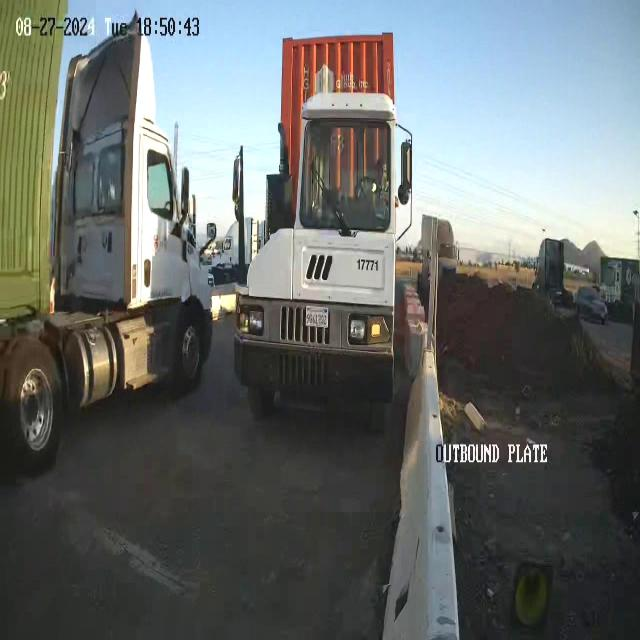CONTAINER: (277, 39, 398, 306), (0, 0, 74, 330)
